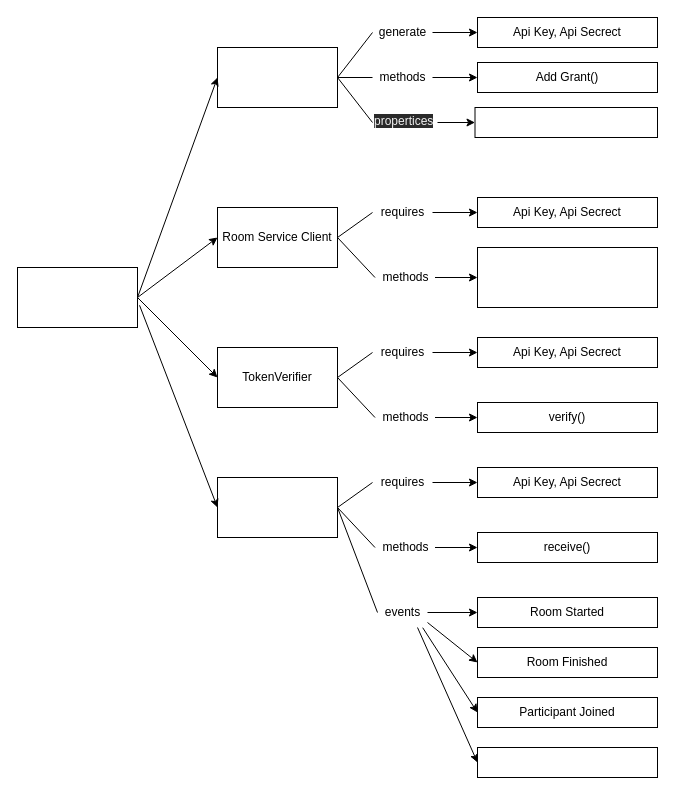
The diagram is 675 pixels wide and 795 high, and some of its shapes have lost their labels. The box of each missing label's shape, as (x1, y1, x2, y2) in pixels:
( identify, ttl): (474, 106, 658, 138)
Access Token: (216, 46, 338, 108)
createRoom(), deleteRoom(), getParticipant(), listParticipant(), listRooms(),...: (476, 246, 658, 308)
Participant Left: (476, 746, 658, 778)
Server: (16, 266, 138, 328)
webHookReceiver: (216, 476, 338, 538)
